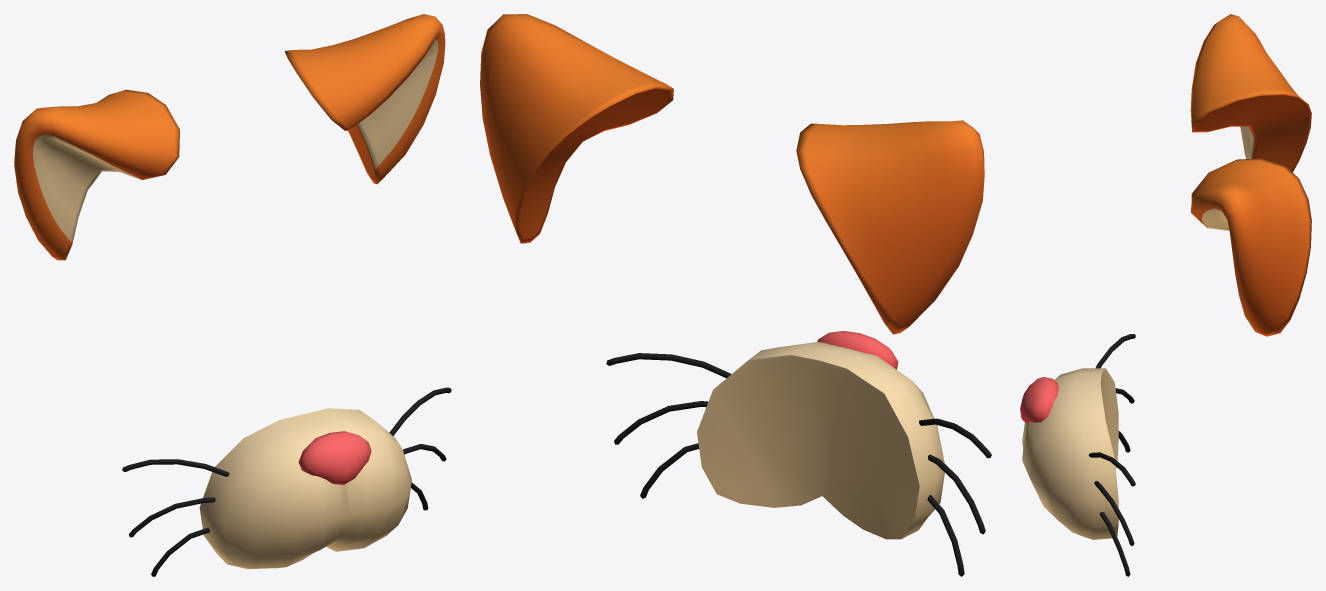
The model's file is AnimalFace_Cat.fbx.
The picture shows the model from 3 angles, left to right: view 1: azimuth 30°, elevation 25°; view 2: azimuth 150°, elevation 25°; view 3: azimuth 270°, elevation 25°; orthographic projection. The views are drawn at different scales.
Visible parts, largest first — view 1: AnimalFace_Cat; view 2: AnimalFace_Cat; view 3: AnimalFace_Cat.
Boxes of the visible parts, box(x1,y1,x2,y2) form: AnimalFace_Cat: box(14, 14, 451, 576); AnimalFace_Cat: box(480, 14, 991, 576); AnimalFace_Cat: box(1020, 14, 1311, 576).
Size of the model in its own units: 95 by 92.72 by 59.78.
1 material, 1 textured.
